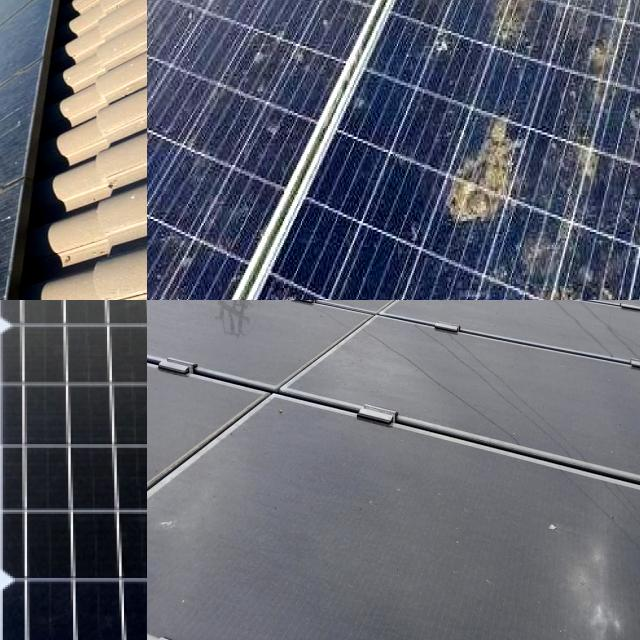bird: (444, 101, 532, 236), (488, 0, 558, 65), (570, 116, 610, 211), (582, 22, 628, 84), (248, 13, 292, 70), (425, 10, 458, 72), (539, 273, 574, 300), (271, 285, 312, 300)
crack: (0, 300, 147, 640)
dust: (147, 434, 245, 607), (517, 498, 636, 640), (0, 203, 100, 300), (0, 77, 55, 196), (0, 30, 41, 158), (0, 0, 51, 76)
